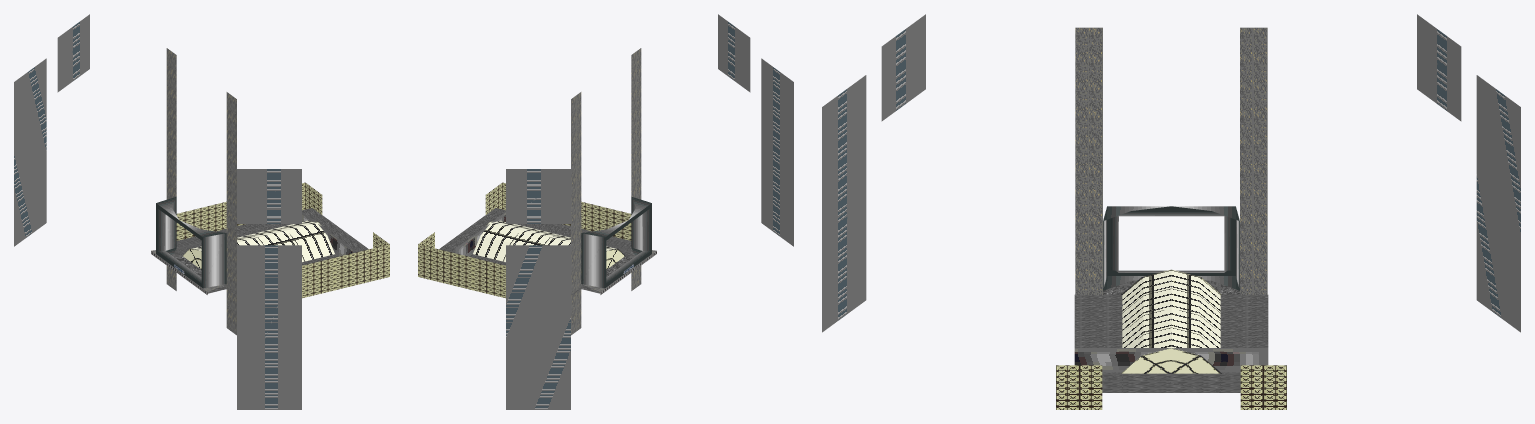
The picture shows the model from 3 angles, left to right: view 1: azimuth 30°, elevation 25°; view 2: azimuth 150°, elevation 25°; view 3: azimuth 270°, elevation 25°; orthographic projection. The views are drawn at different scales.
Parts seen in each view (by area): view 1: obj-64; view 2: obj-64; view 3: obj-64.
Part boxes in pixels (bbox=[...]): obj-64: bbox=[14, 14, 389, 409]; obj-64: bbox=[418, 14, 793, 409]; obj-64: bbox=[822, 14, 1520, 409].
Bounding box in the file's own units: 6.8 × 6.92 × 13.55.
1 material, 1 textured.
